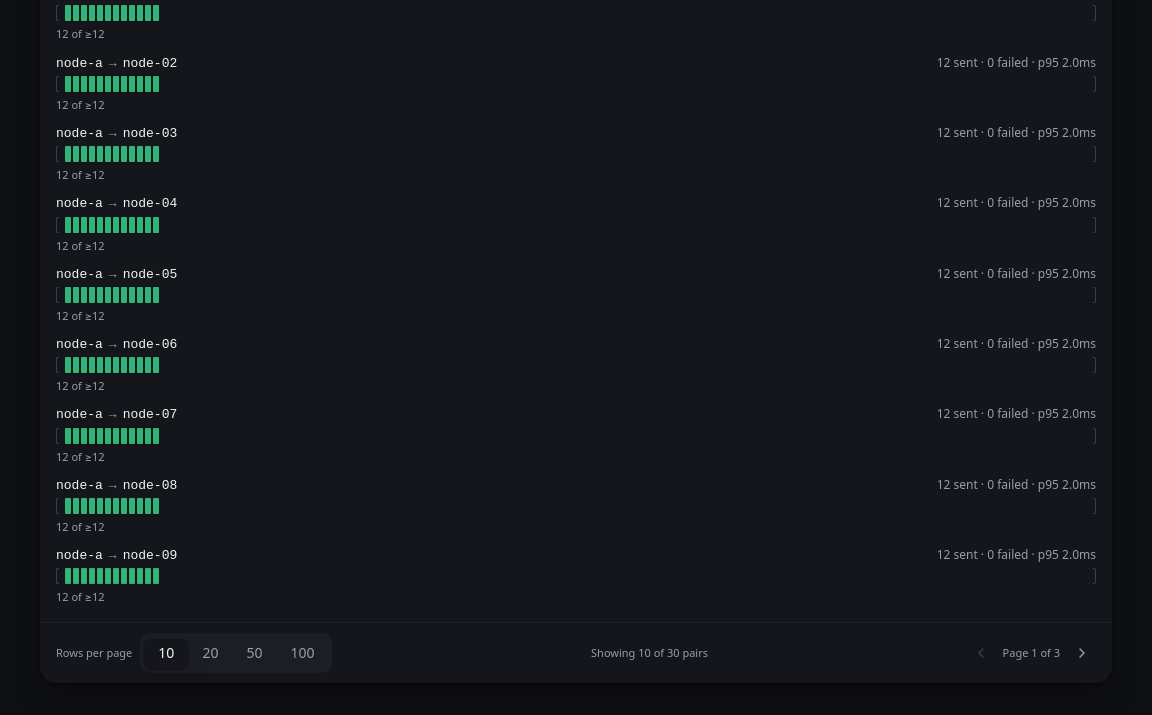
Test case: a run with many pairs is PAGED, not truncated › keeps the first strip on screen when the timeline's page size changes
(page scrolled)
Click the button named "Next page".
click(1082, 652)  # box [1068,638,1096,666]
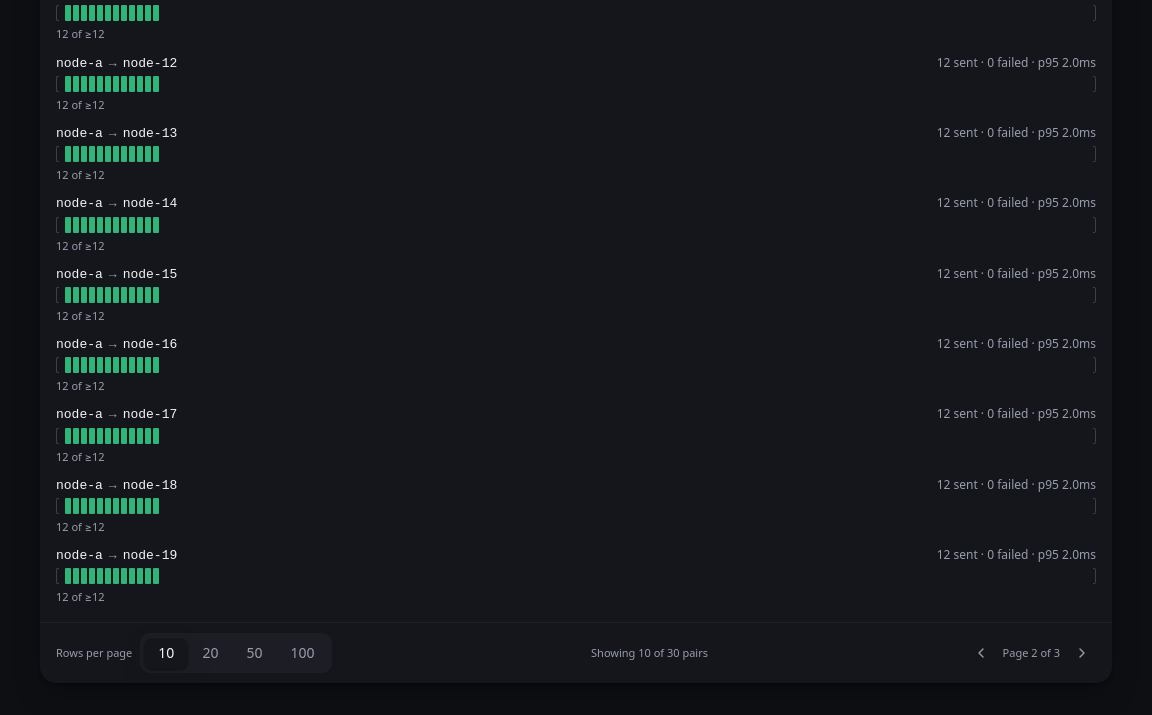
Click the radio button labelled "20".
click(210, 652)  # box [188,636,232,668]
(page scrolled)
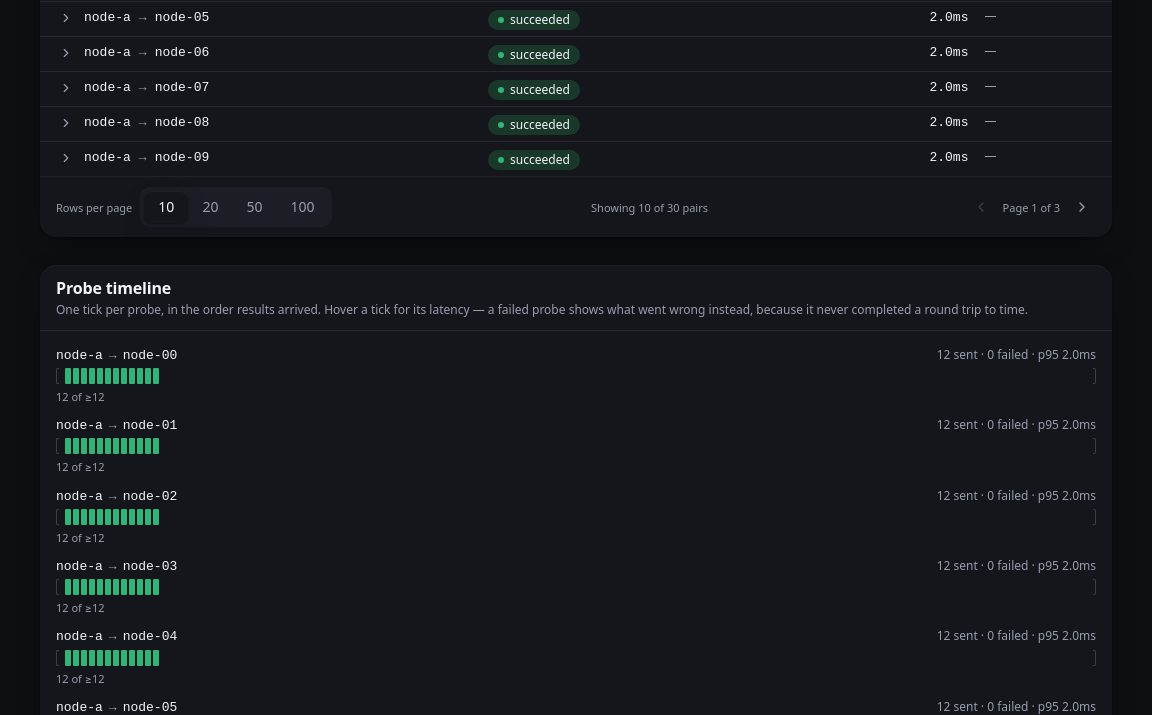
expect the text titled "node-00" is shown: met, box [123,347,177,364]
expect the number of elements with test id "timeline-progress" is 20: met
